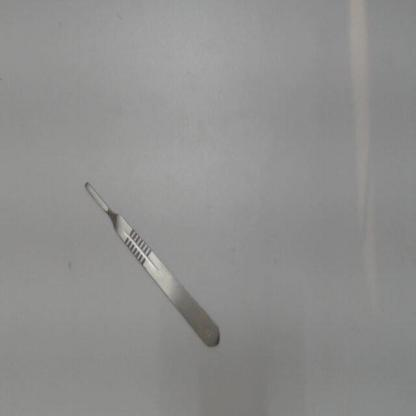No.4 BP Handle: (78, 174, 224, 348)
